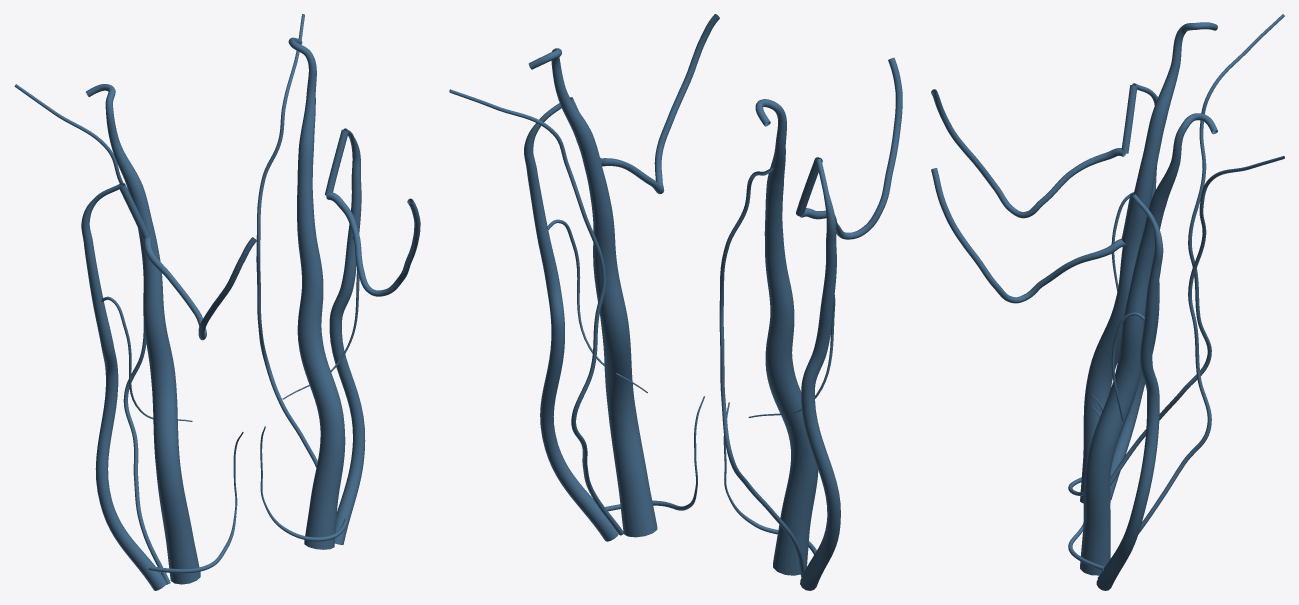
The model's file is venous-neck-balanced.glb.
The picture shows the model from 3 angles, left to right: view 1: azimuth 30°, elevation 25°; view 2: azimuth 150°, elevation 25°; view 3: azimuth 270°, elevation 25°; orthographic projection. The views are drawn at different scales.
Parts seen in each view (by area): view 1: za.internal-jugular-vein-l, za.internal-jugular-vein-r, za.external-jugular-vein-r, za.external-jugular-vein-l, za.vertebral-vein-l, za.vertebral-vein-r, za.facial-vein-l, za.facial-vein-r, za.anterior-jugular-vein-r, za.anterior-jugular-vein-l, za.anterior-division-of-retromandibular-vein-l; view 2: za.internal-jugular-vein-l, za.internal-jugular-vein-r, za.external-jugular-vein-l, za.external-jugular-vein-r, za.vertebral-vein-l, za.vertebral-vein-r, za.facial-vein-l, za.facial-vein-r, za.superior-thyroid-vein-l, za.anterior-jugular-vein-l; view 3: za.internal-jugular-vein-l, za.internal-jugular-vein-r, za.external-jugular-vein-l, za.vertebral-vein-r, za.vertebral-vein-l, za.facial-vein-l, za.facial-vein-r, za.external-jugular-vein-r, za.anterior-division-of-retromandibular-vein-r.
Part boxes in pixels (bbox=[...]): za.internal-jugular-vein-l: bbox=[288, 37, 345, 549]; za.internal-jugular-vein-r: bbox=[86, 84, 200, 584]; za.external-jugular-vein-r: bbox=[81, 219, 166, 590]; za.external-jugular-vein-l: bbox=[329, 154, 365, 544]; za.vertebral-vein-l: bbox=[256, 14, 317, 467]; za.vertebral-vein-r: bbox=[14, 84, 170, 584]; za.facial-vein-l: bbox=[326, 192, 420, 296]; za.facial-vein-r: bbox=[143, 237, 256, 340]; za.anterior-jugular-vein-r: bbox=[148, 432, 243, 573]; za.anterior-jugular-vein-l: bbox=[260, 426, 348, 541]; za.anterior-division-of-retromandibular-vein-l: bbox=[325, 129, 348, 195]; za.internal-jugular-vein-l: bbox=[528, 48, 657, 537]; za.internal-jugular-vein-r: bbox=[755, 99, 818, 575]; za.external-jugular-vein-l: bbox=[524, 145, 618, 541]; za.external-jugular-vein-r: bbox=[800, 218, 840, 590]; za.vertebral-vein-l: bbox=[449, 89, 623, 535]; za.vertebral-vein-r: bbox=[719, 168, 804, 577]; za.facial-vein-l: bbox=[600, 14, 719, 194]; za.facial-vein-r: bbox=[800, 57, 902, 239]; za.superior-thyroid-vein-l: bbox=[547, 219, 647, 393]; za.anterior-jugular-vein-l: bbox=[605, 396, 704, 511]; za.internal-jugular-vein-l: bbox=[1080, 113, 1217, 575]; za.internal-jugular-vein-r: bbox=[1080, 22, 1217, 503]; za.external-jugular-vein-l: bbox=[1096, 246, 1163, 590]; za.vertebral-vein-r: bbox=[1110, 14, 1284, 485]; za.vertebral-vein-l: bbox=[1097, 156, 1284, 578]; za.facial-vein-l: bbox=[931, 168, 1126, 303]; za.facial-vein-r: bbox=[931, 89, 1125, 218]; za.external-jugular-vein-r: bbox=[1110, 167, 1159, 499]; za.anterior-division-of-retromandibular-vein-r: bbox=[1121, 85, 1137, 153].
Size of the model in its own units: 0.1069 by 0.1657 by 0.1115.
